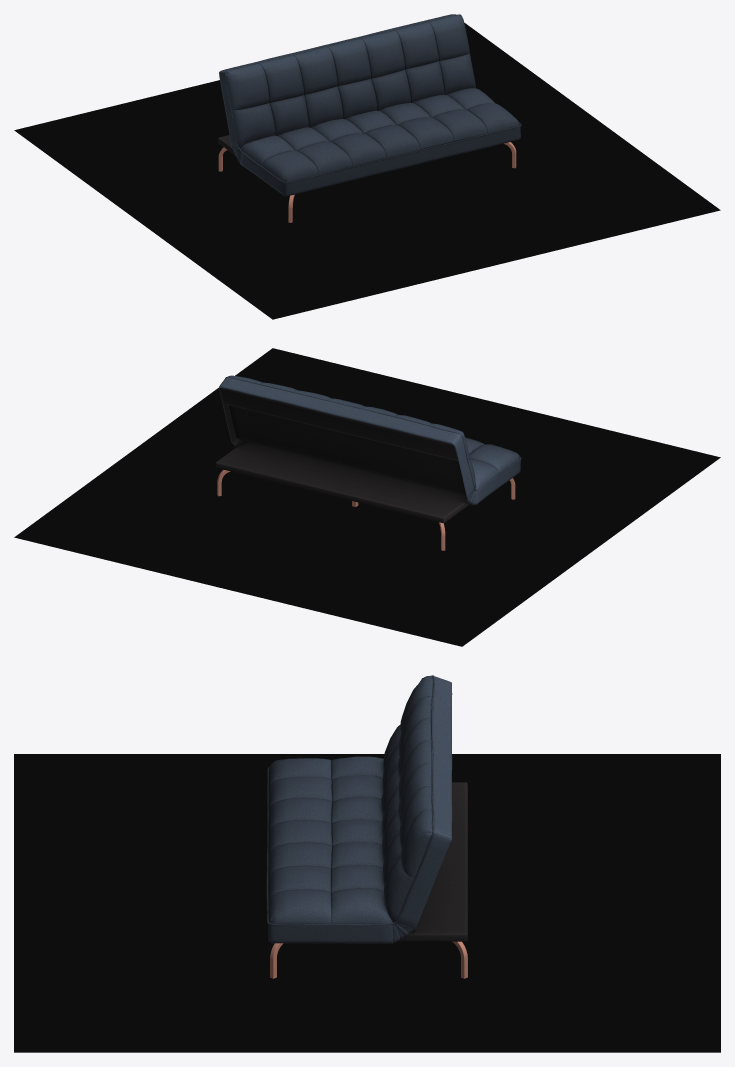
File: Blue Sofa Bed.glb
3 renders of one model, top to bottom at view 1: azimuth 30°, elevation 25°; view 2: azimuth 150°, elevation 25°; view 3: azimuth 270°, elevation 25°, orthographic. The views are drawn at different scales.
Parts seen in each view (by area): view 1: Plane001, FABRIC001; view 2: Plane001, FABRIC_BLACK001, FABRIC001; view 3: Plane001, FABRIC001, FABRIC_BLACK001.
Part boxes in pixels (bbox=[...]): Plane001: bbox=[14, 23, 720, 319]; FABRIC001: bbox=[219, 14, 521, 196]; Plane001: bbox=[14, 348, 720, 646]; FABRIC_BLACK001: bbox=[215, 388, 474, 523]; FABRIC001: bbox=[219, 375, 521, 504]; Plane001: bbox=[14, 754, 720, 1052]; FABRIC001: bbox=[266, 675, 452, 943]; FABRIC_BLACK001: bbox=[395, 782, 467, 942].
Size of the model in its own units: 334 by 79.05 by 334.
5 materials, 4 textured.
